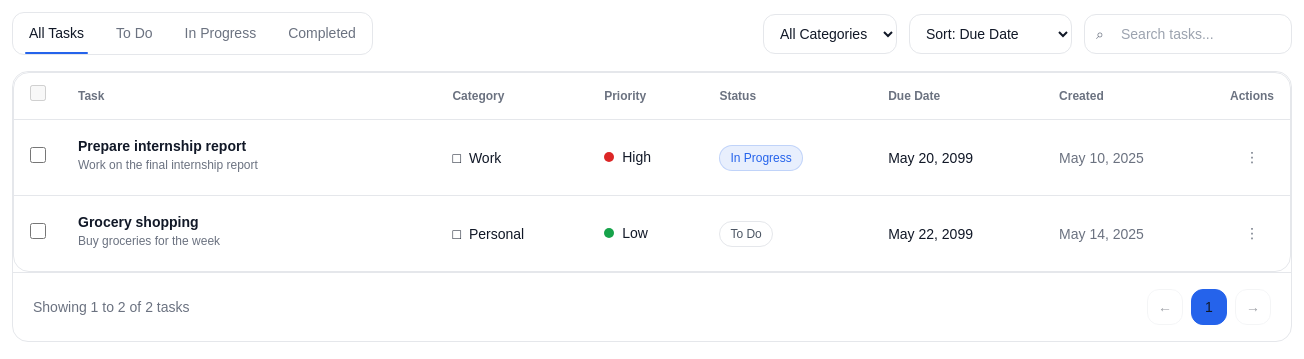
Test: TaskSection › searches tasks
Type "grocery" into the search field labelled "Search tasks" at (1188, 34), box [1084,14,1292,54]
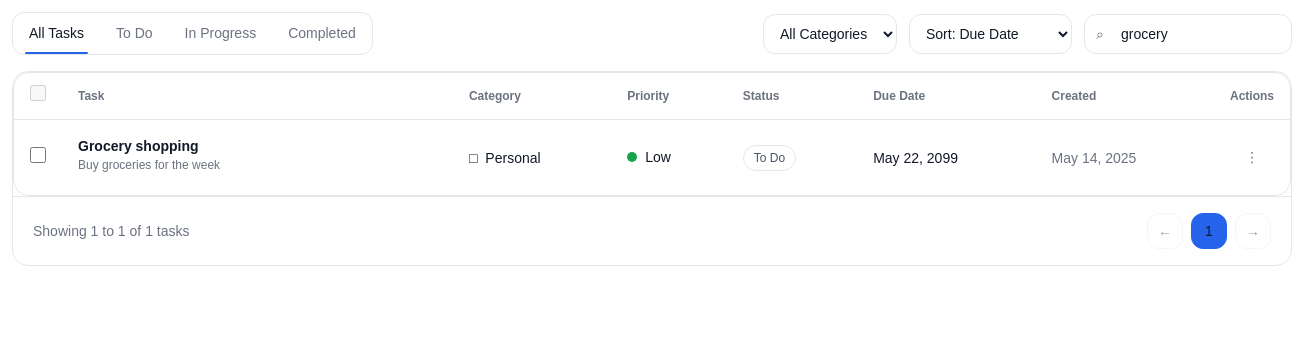
Expected: the text "Grocery shopping" is shown, [78,138,199,154]
Now the button "Prepare internship report" is gone
